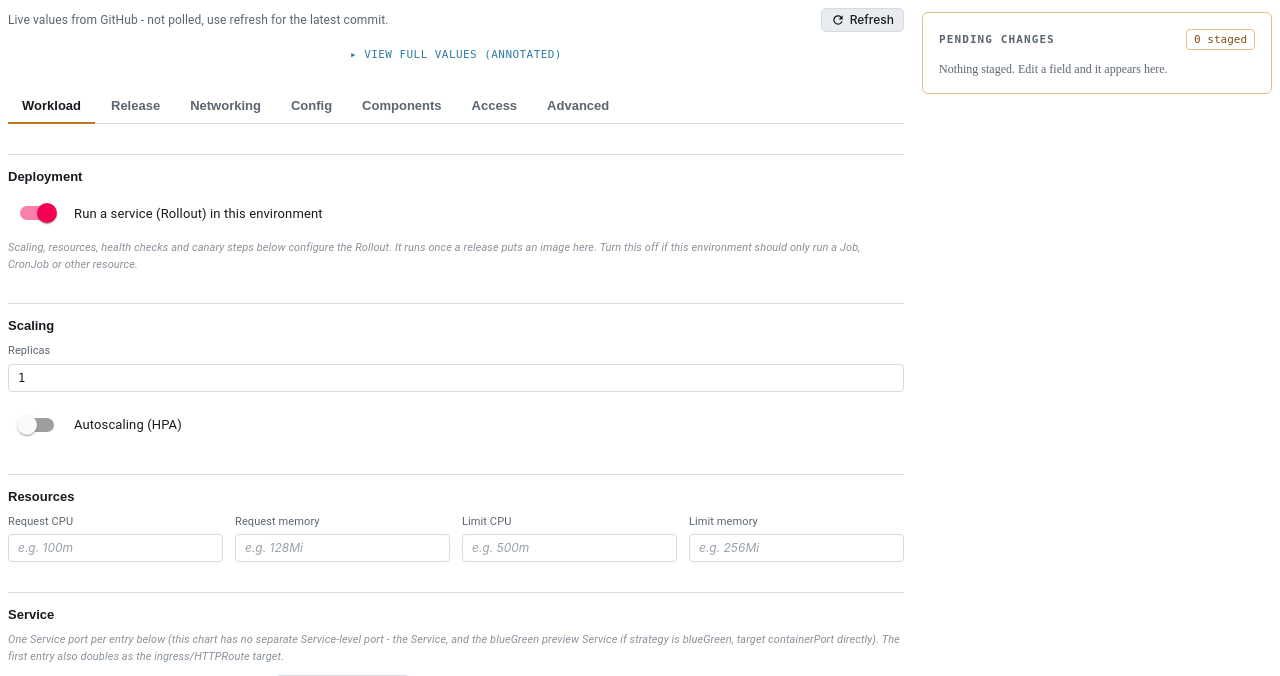
Test: values form: analysis templates and their scope › warns at once about the boarding-api pre-prod case, naming the fix, without any edit
Click the tab "Release" at [136, 107], box [97, 89, 174, 124]
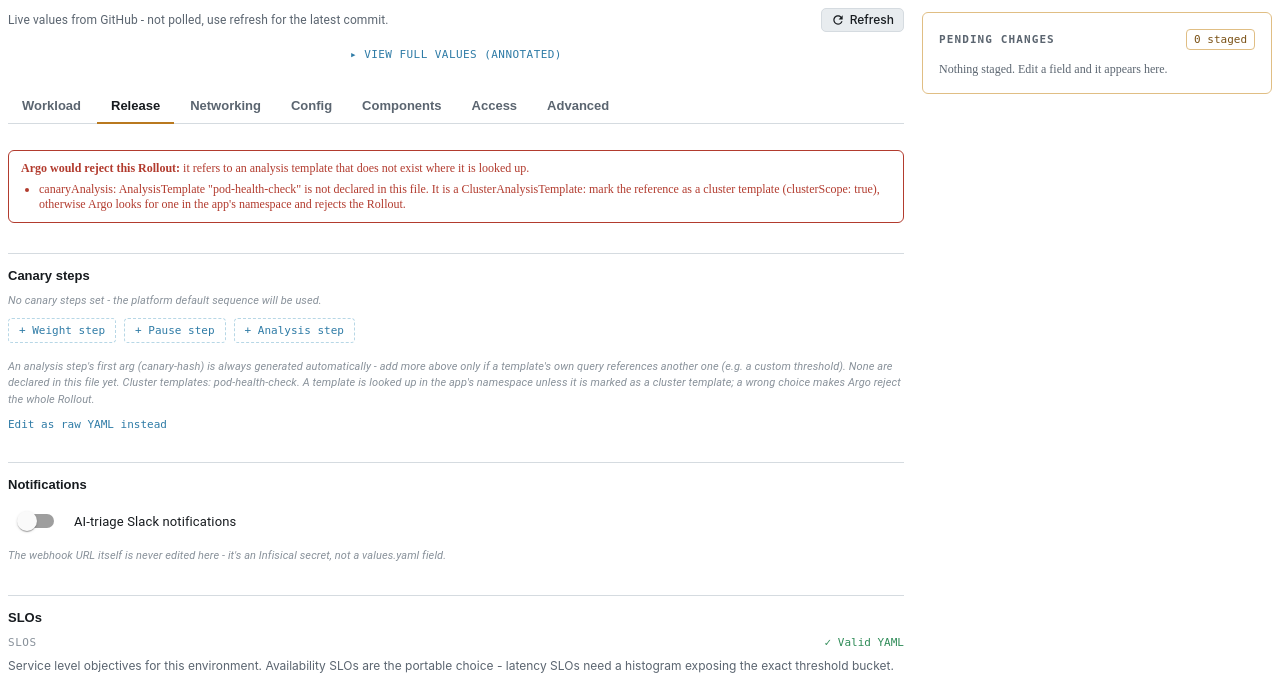
Check: the message shows "Argo would reject this Rollout", box [21, 161, 180, 175]
Check: the message shows "\"pod-health-check\" is not declared in this file. It is a ClusterAnalysisTemplate: mark the reference as a cluster template", box [39, 182, 880, 211]
